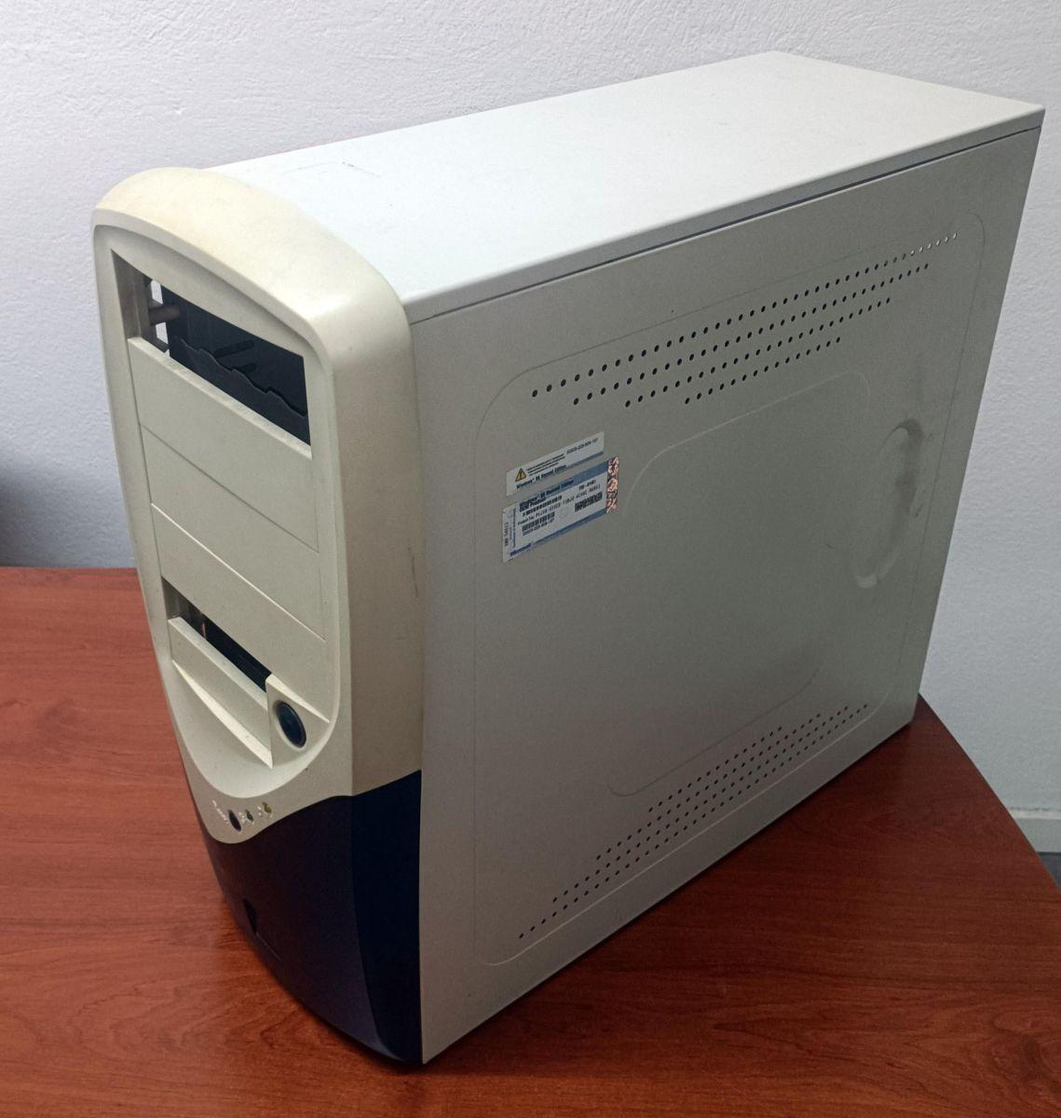DESKTOP PC: (95, 51, 993, 1068)
